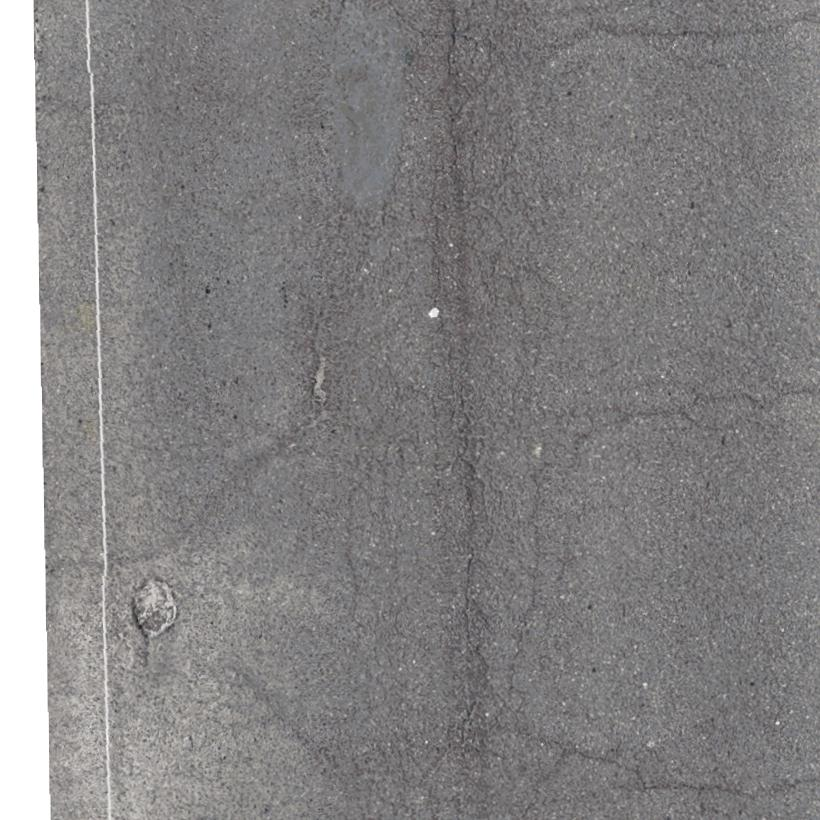BACHE: (134, 580, 176, 636)
GRIETA: (44, 357, 330, 580), (545, 10, 819, 62), (576, 750, 819, 802), (237, 668, 339, 774)
PARCHE: (330, 40, 406, 203)
PIEL DE COCODRILO: (327, 0, 549, 469), (298, 473, 577, 819), (538, 366, 819, 462)
